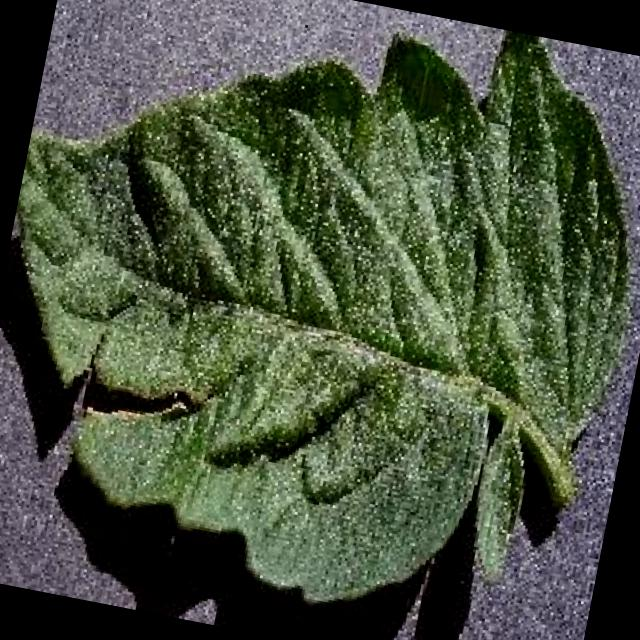healthy: (13, 30, 632, 603)
